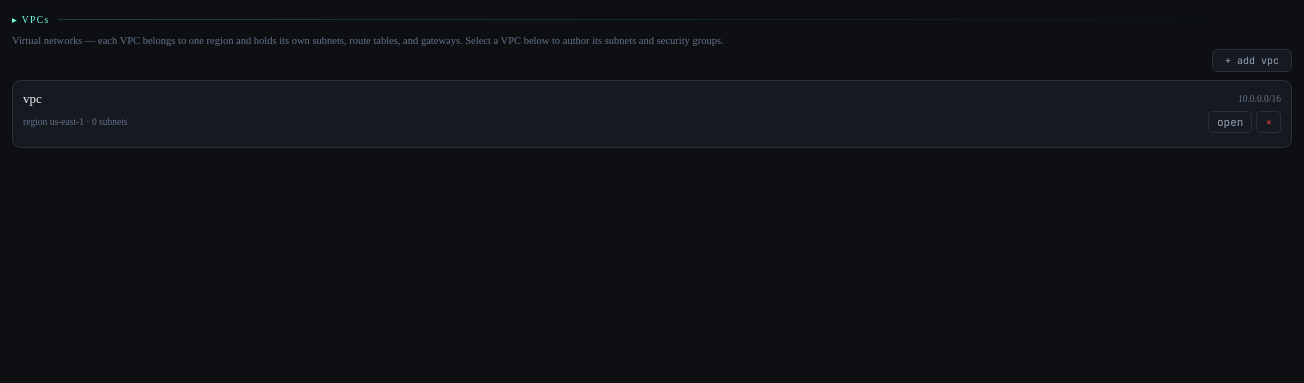
Scenario: NetworkPanel › selecting a VPC shows its subnets and an add-subnet control
The image size is (1304, 383).
Click the button "vpc": click(32, 98) [23,91,42,106]
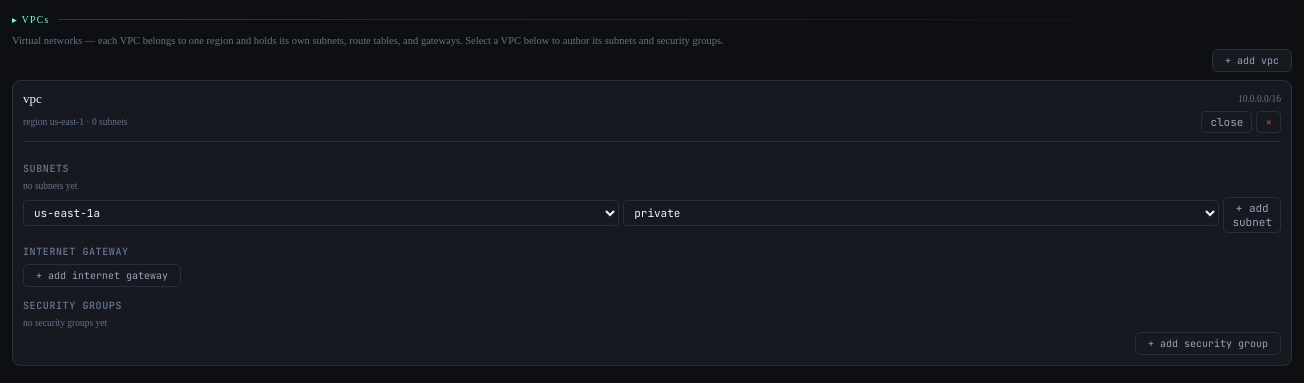
Result: the text "no subnets yet" is shown at [23,181,77,191]
Result: the button "+ add subnet" is shown at [1223,197,1281,233]
